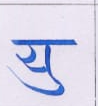u_matra: (12, 67, 68, 96)
